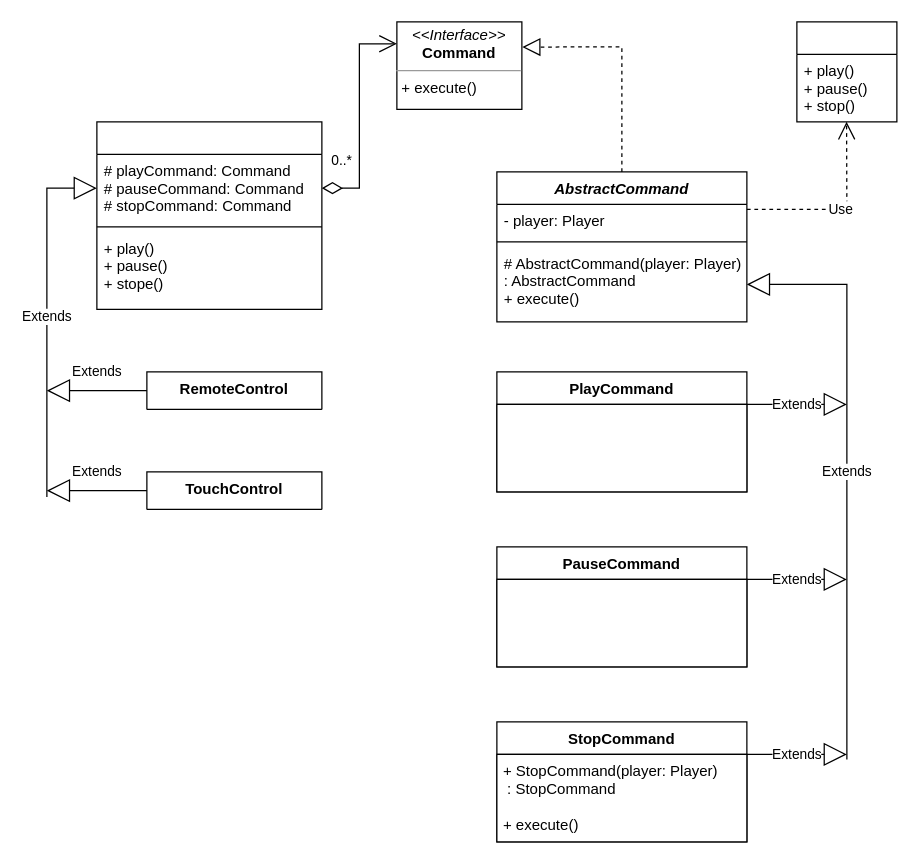
Some shapes in this 919 by 864 pixel diagram are drawn without their labels. The shapes that lost their labels are listed below. From the top down, each one's box as (x1, y1, x2, y2) in pixels, then its label:
(796, 21, 897, 122): Player
(96, 121, 322, 309): PlayerControl
(496, 403, 747, 492): + PlayCommand(player: Player) : PlayCommand + execute()
(496, 578, 747, 667): + Pause Command(player: Player) : Pause Command + execute()
